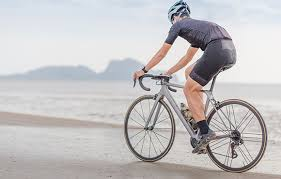bicycle: (120, 68, 270, 175)
